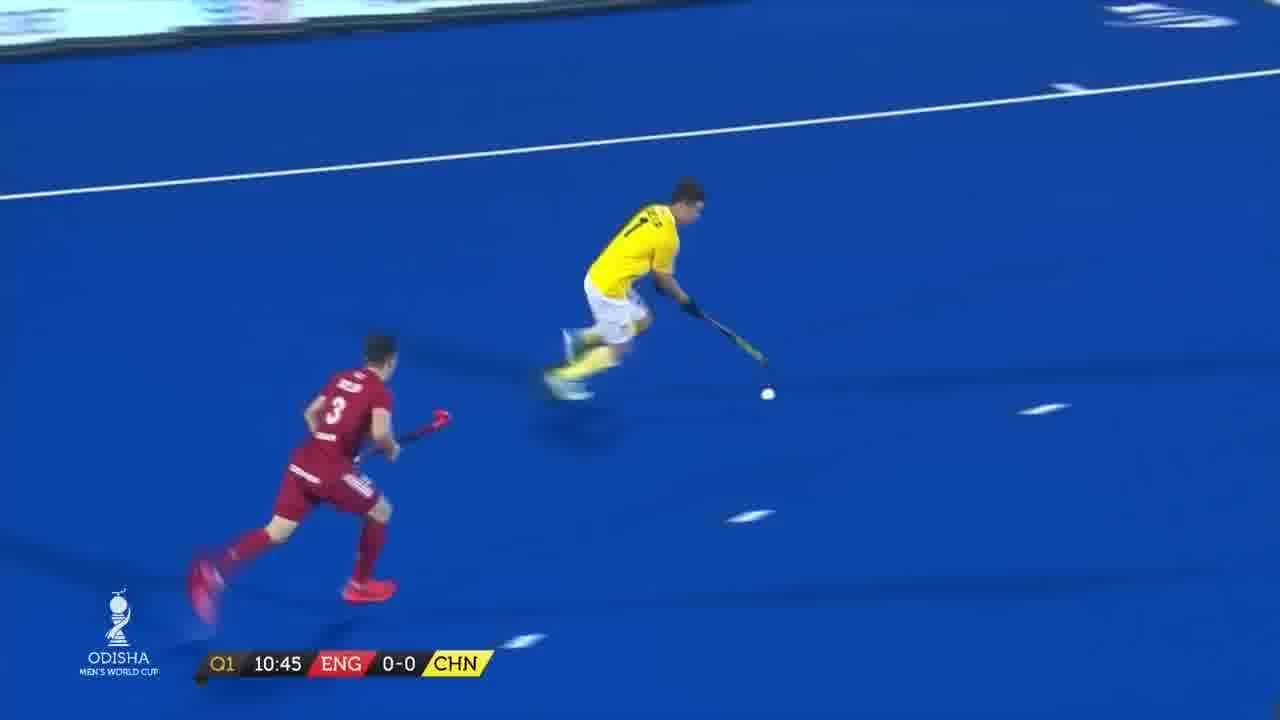ball: (756, 384, 782, 407)
